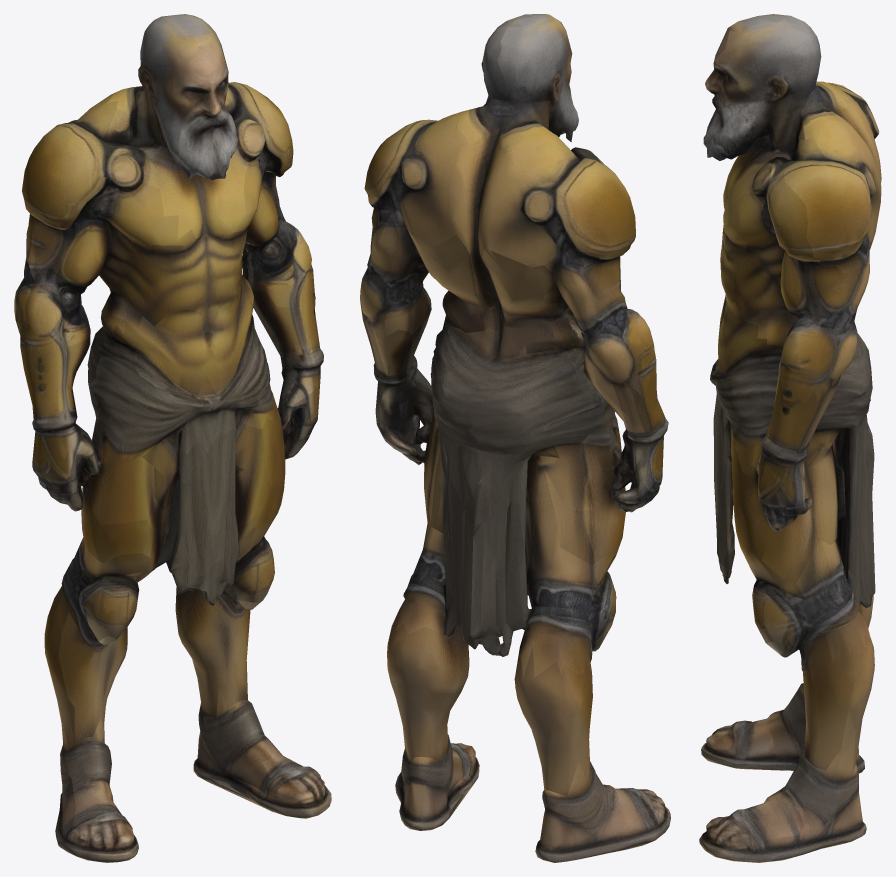
File: colossus__talos-bronze.glb
3 views of the same model, side by side, from view 1: azimuth 30°, elevation 25°; view 2: azimuth 150°, elevation 25°; view 3: azimuth 270°, elevation 25° (orthographic).
Bounding box in the file's own units: 0.7616 × 2 × 0.4217.
1 material, 1 textured.
